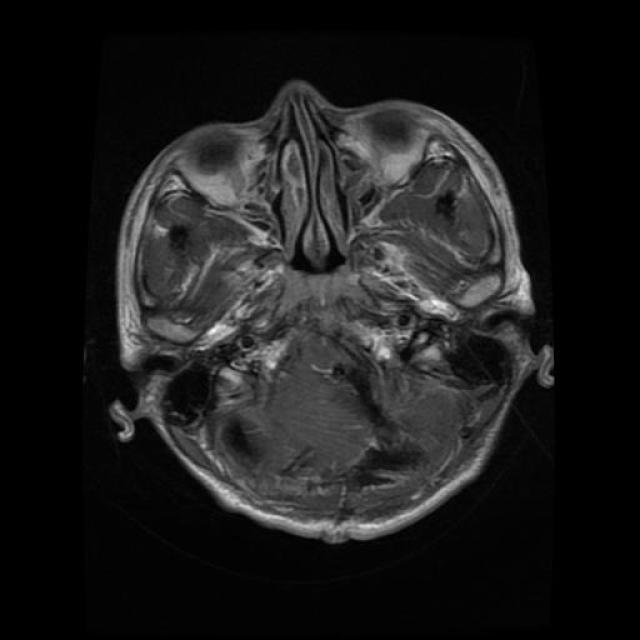glioma: (228, 160, 402, 320)
